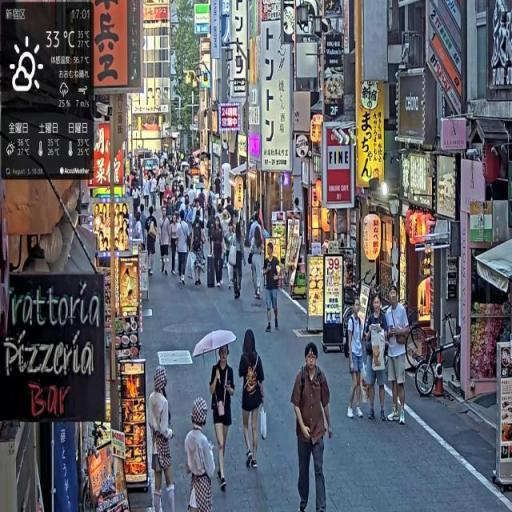person: (290, 342, 333, 512), (148, 365, 178, 512), (185, 397, 223, 512), (240, 327, 268, 471), (384, 288, 413, 427), (210, 344, 237, 491), (363, 293, 390, 426), (347, 298, 369, 422), (263, 243, 282, 334), (176, 211, 192, 288), (212, 217, 225, 288), (159, 207, 172, 278), (147, 208, 160, 277), (169, 212, 180, 277)
